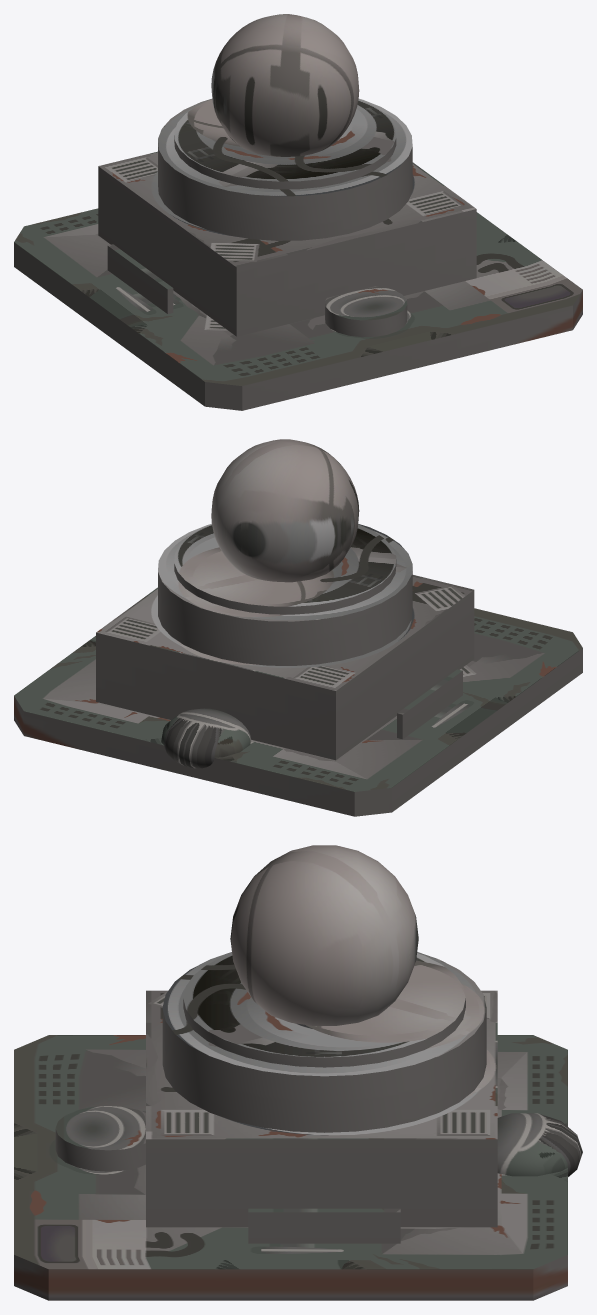
The model's file is Building_AncientGravReactor__Off.obj.
3 renders of one model, top to bottom at view 1: azimuth 30°, elevation 25°; view 2: azimuth 150°, elevation 25°; view 3: azimuth 270°, elevation 25°, orthographic. The views are drawn at different scales.
Parts seen in each view (by area): view 1: Body; view 2: Body; view 3: Body.
Part boxes in pixels (<box>): Body: <box>14,14,582,410</box>; Body: <box>14,439,582,816</box>; Body: <box>14,845,582,1300</box>.
Size of the model in its own units: 4 by 2.63 by 4.11.
Materials: 1 (1 with a texture image).
